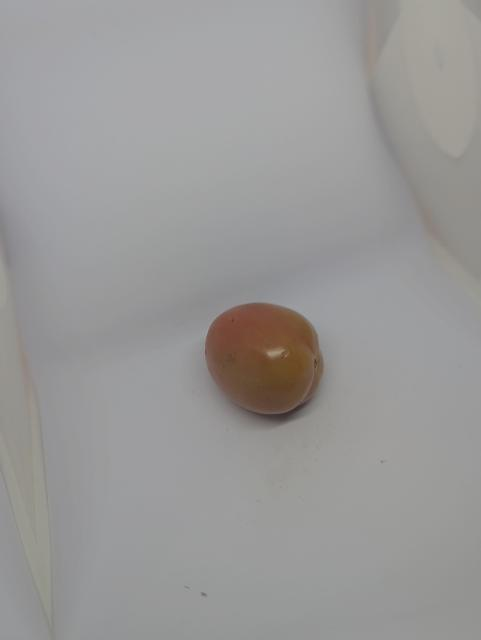turning: (195, 297, 336, 422)
